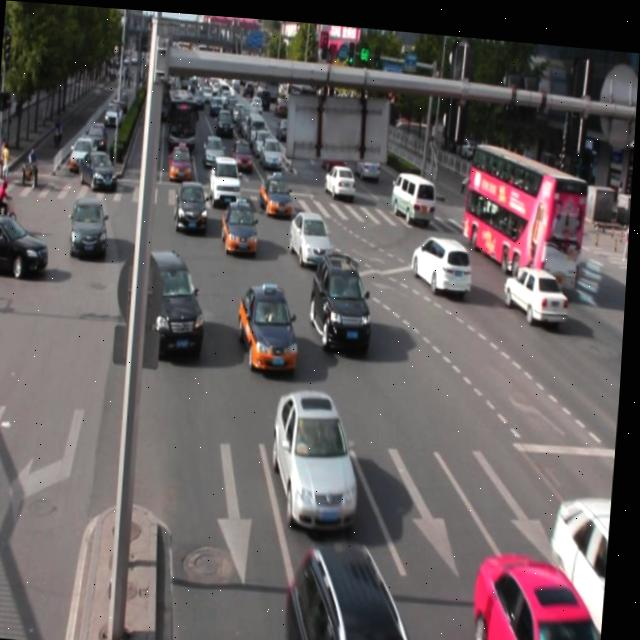car: (287, 529, 433, 640), (272, 379, 370, 528), (475, 537, 612, 640), (551, 484, 617, 640), (140, 243, 211, 356), (309, 242, 379, 347), (237, 274, 306, 371), (410, 224, 476, 288), (504, 253, 572, 315), (290, 203, 337, 262), (71, 192, 113, 257), (221, 192, 263, 251), (175, 175, 213, 233)
van: (460, 133, 587, 280)
